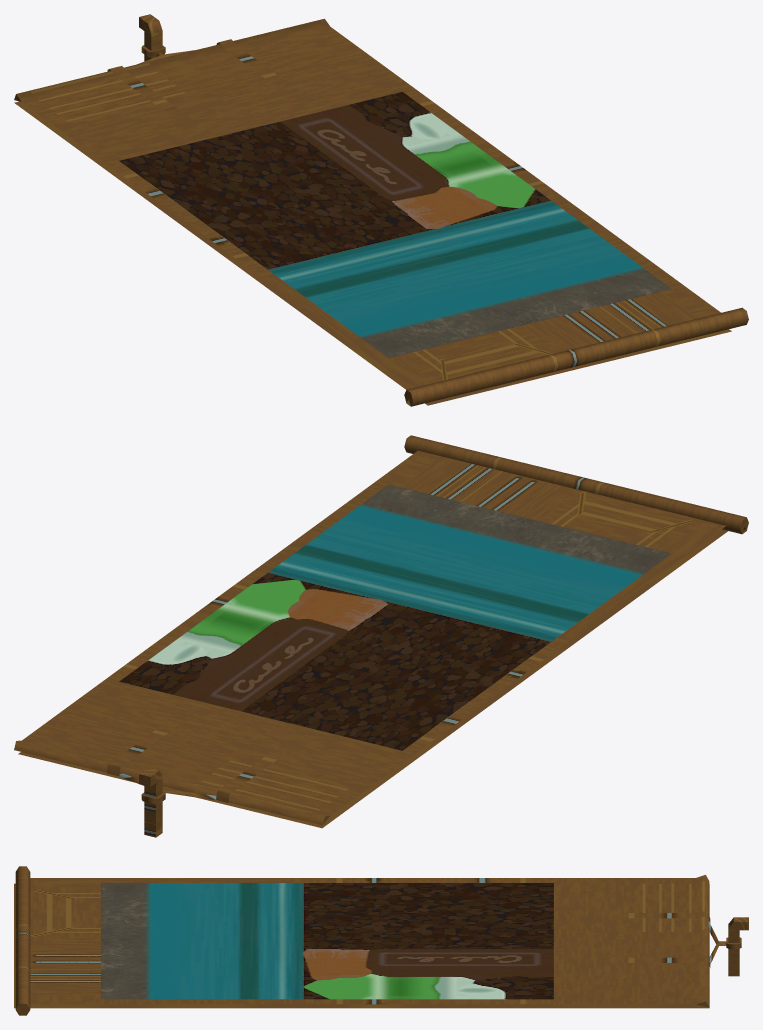
File: art37.fbx
3 renders of one model, top to bottom at view 1: azimuth 30°, elevation 25°; view 2: azimuth 150°, elevation 25°; view 3: azimuth 270°, elevation 25°, orthographic. The views are drawn at different scales.
Visible parts, largest first — view 1: Jakucyu__mBody, BackFace__mFrame; view 2: Jakucyu__mBody, BackFace__mFrame; view 3: Jakucyu__mBody, BackFace__mFrame.
Boxes of the visible parts, x1,y1,x2,y2 form: Jakucyu__mBody: [119, 91, 671, 357]; BackFace__mFrame: [14, 14, 748, 406]; Jakucyu__mBody: [119, 484, 671, 750]; BackFace__mFrame: [14, 435, 748, 837]; Jakucyu__mBody: [101, 883, 553, 999]; BackFace__mFrame: [14, 866, 748, 1015].
Size of the model in its own units: 246 by 45.36 by 554.
